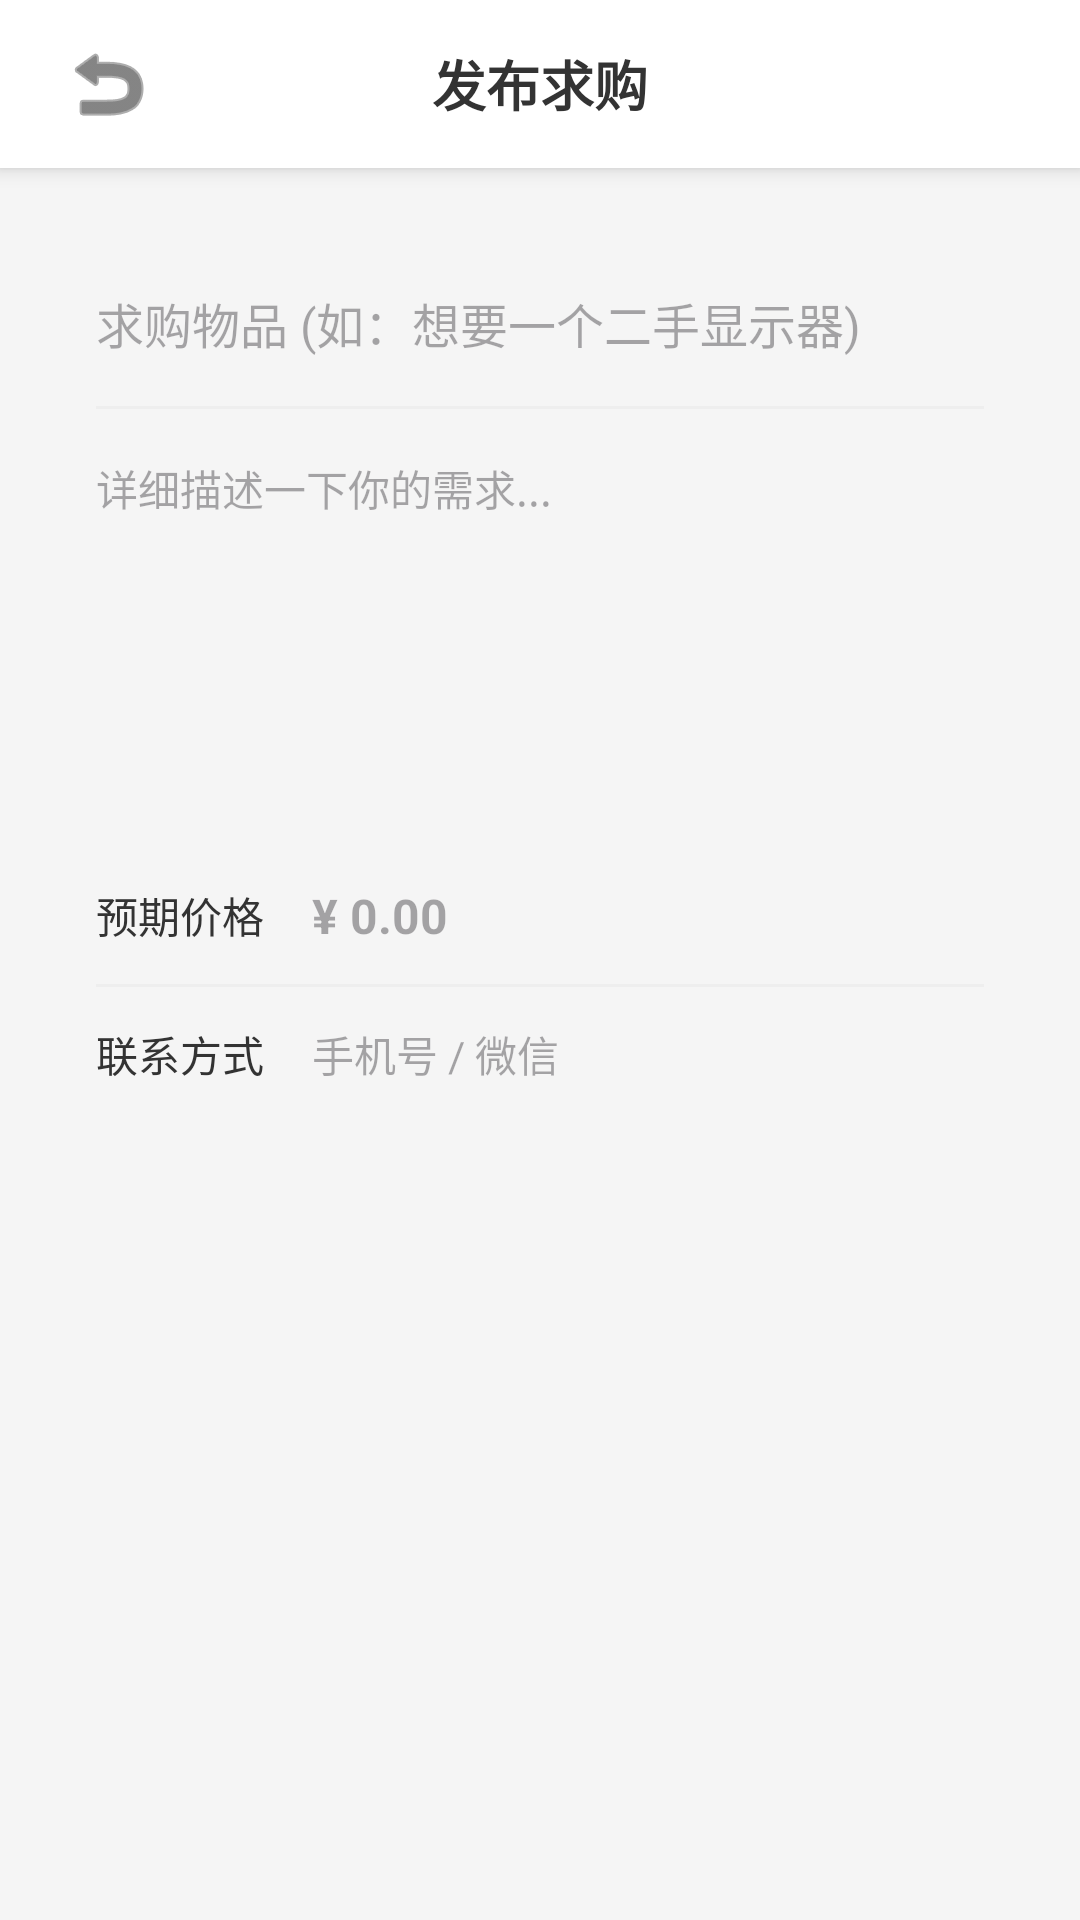

Icon click points for this 1080×1920 phone screenshot, format [x,y]:
revert: [109,84]
